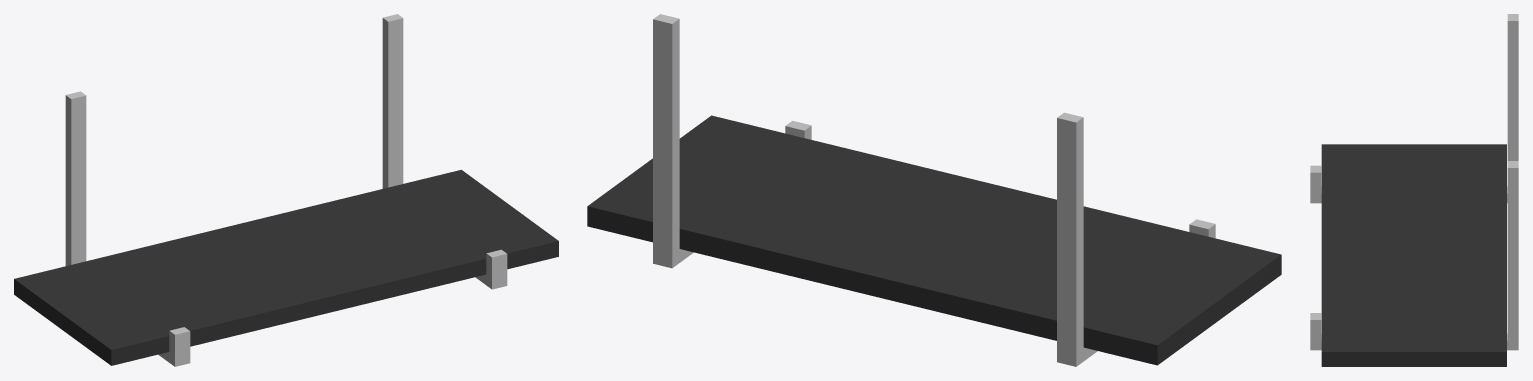
File: Wall_Shelf_5.obj
The picture shows the model from 3 angles, left to right: view 1: azimuth 30°, elevation 25°; view 2: azimuth 150°, elevation 25°; view 3: azimuth 270°, elevation 25°; orthographic projection. The views are drawn at different scales.
Visible parts, largest first — view 1: Wall_Shelf_5; view 2: Wall_Shelf_5; view 3: Wall_Shelf_5.
Boxes of the visible parts, x1,y1,x2,y2 form: Wall_Shelf_5: (14,14,558,366); Wall_Shelf_5: (587,14,1281,366); Wall_Shelf_5: (1310,14,1518,366).
Size of the model in its own units: 0.9049 by 0.3707 by 0.3835.
